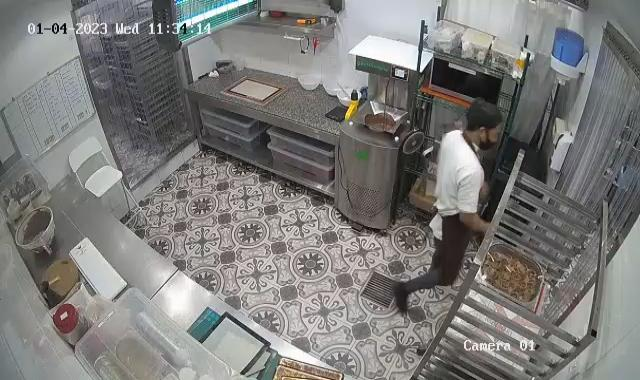no_hairnet: (465, 99, 505, 135)
